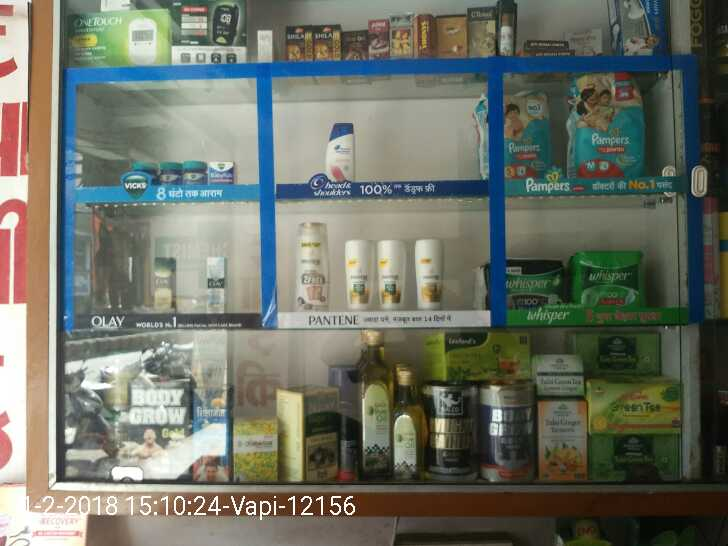beauty: (294, 219, 333, 316), (411, 237, 451, 315), (317, 120, 365, 180), (374, 237, 410, 315), (341, 238, 374, 310), (204, 250, 231, 316)
pharmacy: (567, 70, 651, 176), (483, 249, 565, 311), (578, 244, 655, 307), (501, 101, 549, 186), (138, 159, 243, 193)
